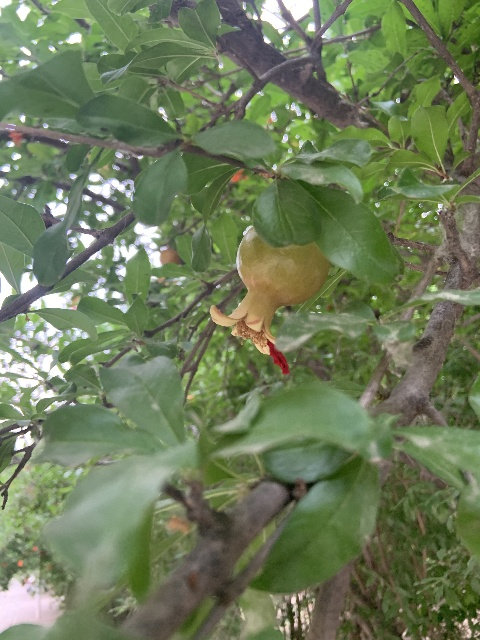early-fruit: (209, 224, 329, 373), (155, 247, 181, 284)
